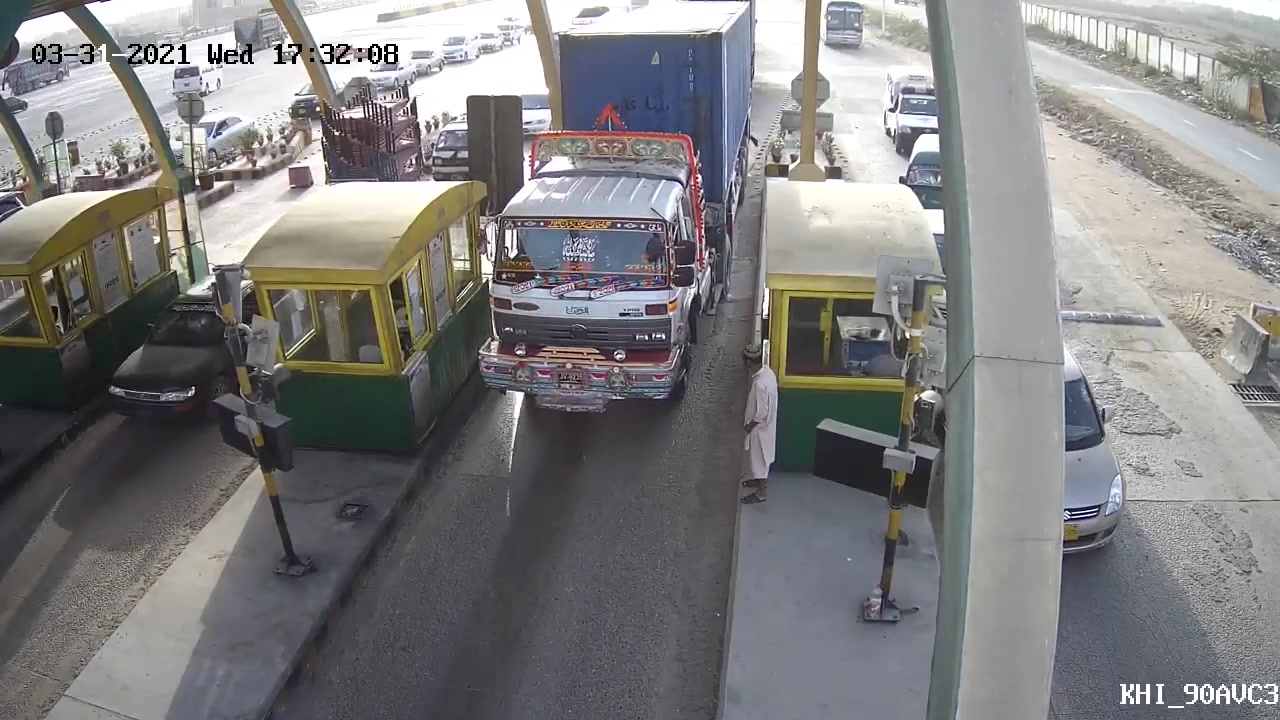F6: (482, 1, 763, 427)
